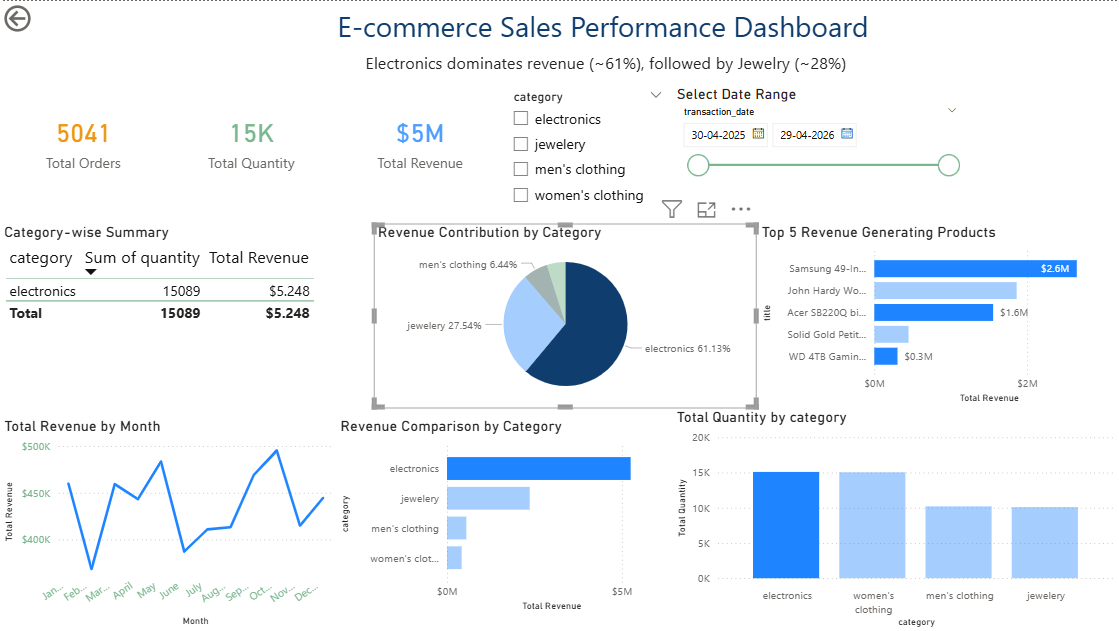

The page's visual inventory and layout, read from the dashboard file:
{"tool":"powerbi","page":{"name":"Page 1","canvas":[1280,720],"ordinal":0},"visuals":[{"type":"card","fields":{"Values":["products_cleaned_realistic.Total Orders"]},"box":[0,94.6,190.6,132.7],"z":0},{"type":"card","fields":{"Values":["products_cleaned_realistic.Total Revenue"]},"box":[385.4,94.6,189.2,132.7],"z":1000},{"type":"card","fields":{"Values":["products_cleaned_realistic.Total Quantity"]},"box":[190.6,94.6,194.8,132.7],"z":2000},{"type":"clusteredBarChart","title":"Revenue Comparison by Category","fields":{"Category":["products_cleaned_realistic.category"],"Y":["products_cleaned_realistic.Total Revenue"]},"box":[385.1,476,383.7,227.4],"z":3000},{"type":"clusteredColumnChart","fields":{"Category":["products_cleaned_realistic.category"],"Y":["products_cleaned_realistic.Total Quantity"]},"box":[769,465.2,511.3,255],"z":4000},{"type":"lineChart","fields":{"Category":["products_cleaned_realistic.transaction_date.Variation.Date Hierarchy.Month"],"Y":["products_cleaned_realistic.Total Revenue"]},"box":[0,465.4,385.8,254.4],"z":5000},{"type":"pieChart","title":"Revenue Contribution by Category","fields":{"Category":["products_cleaned_realistic.category"],"Y":["products_cleaned_realistic.Total Revenue"]},"box":[427.7,254.4,438.9,211.1],"z":6000},{"type":"textbox","box":[345.9,1.4,711.5,66.4],"z":7000},{"type":"textbox","box":[412.2,52.2,625.4,42.4],"z":8000},{"type":"slicer","title":"Select Date Range","fields":{"Values":["products_cleaned_realistic.transaction_date"]},"box":[768.7,95,336.8,132.8],"z":9000},{"type":"slicer","fields":{"Values":["products_cleaned_realistic.category"]},"box":[574.5,95,194.3,159.3],"z":10000},{"type":"clusteredBarChart","title":"Top 5 Revenue Generating Products","fields":{"Category":["products_cleaned_realistic.title"],"Y":["products_cleaned_realistic.Total Revenue"]},"box":[866.6,254.4,413.7,211.1],"z":11000},{"type":"tableEx","title":"Category-wise Summary","fields":{"Values":["products_cleaned_realistic.category","Sum(products_cleaned_realistic.quantity)","products_cleaned_realistic.final"]},"box":[0,254.4,427.7,191.5],"z":12000},{"type":"actionButton","box":[0,0,100,40],"z":13000}]}

Visuals, with their boxes in screenshot pixels (x1, y1, x2, y2), scaled from the page's 1280x720 canvas onto the 1119x631 screenshot:
card - products_cleaned_realistic.Total Orders: l=0, t=83, r=167, b=199
card - products_cleaned_realistic.Total Revenue: l=337, t=83, r=502, b=199
card - products_cleaned_realistic.Total Quantity: l=167, t=83, r=337, b=199
"Revenue Comparison by Category" clusteredBarChart: l=337, t=417, r=672, b=616
clusteredColumnChart - products_cleaned_realistic.category x products_cleaned_realistic.Total Quantity: l=672, t=408, r=1118, b=630
lineChart - products_cleaned_realistic.transaction_date.Variation.Date Hierarchy.Month x products_cleaned_realistic.Total Revenue: l=0, t=408, r=337, b=630
"Revenue Contribution by Category" pieChart: l=374, t=223, r=758, b=408
textbox: l=302, t=1, r=924, b=59
textbox: l=360, t=46, r=907, b=83
"Select Date Range" slicer: l=672, t=83, r=966, b=200
slicer - products_cleaned_realistic.category: l=502, t=83, r=672, b=223
"Top 5 Revenue Generating Products" clusteredBarChart: l=758, t=223, r=1118, b=408
"Category-wise Summary" tableEx: l=0, t=223, r=374, b=391
actionButton: l=0, t=0, r=87, b=35
